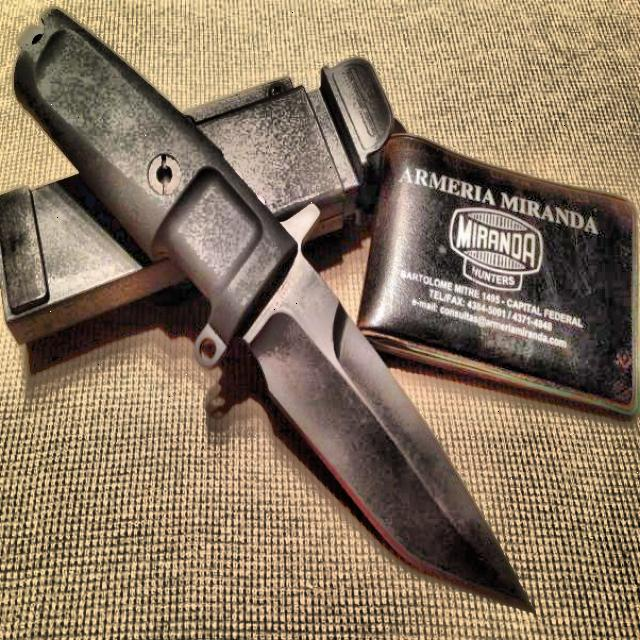knife: (16, 8, 532, 612)
